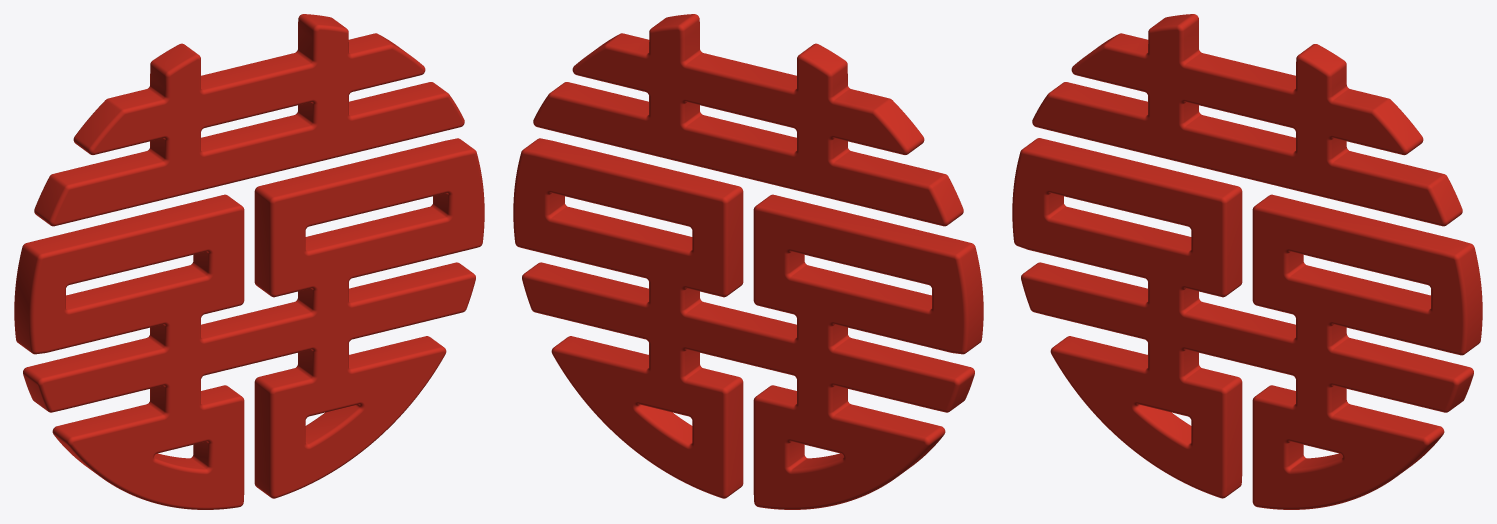
The model's file is xi-doble.glb.
The picture shows the model from 3 angles, left to right: view 1: azimuth 30°, elevation 25°; view 2: azimuth 150°, elevation 25°; view 3: azimuth 330°, elevation 25°; orthographic projection.
Visible parts, largest first — view 1: geometry_0; view 2: geometry_0; view 3: geometry_0.
Boxes of the visible parts, left/top/right/bottom form: geometry_0: left=14, top=14, right=484, bottom=509; geometry_0: left=513, top=14, right=983, bottom=509; geometry_0: left=1012, top=14, right=1482, bottom=509.
Bounding box in the file's own units: 1 × 0.972 × 0.07.
